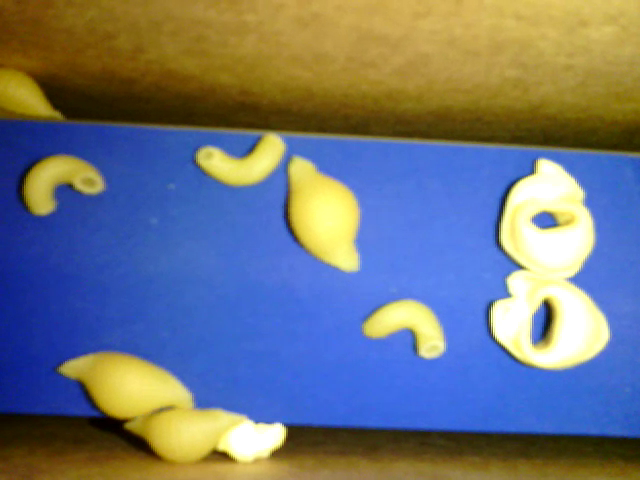elbow: (194, 130, 290, 188), (359, 299, 447, 362), (21, 153, 104, 219)
shell: (53, 352, 195, 419), (286, 154, 364, 273), (120, 410, 246, 460), (2, 68, 66, 122)
tortellini: (495, 153, 597, 288), (489, 273, 612, 377)
